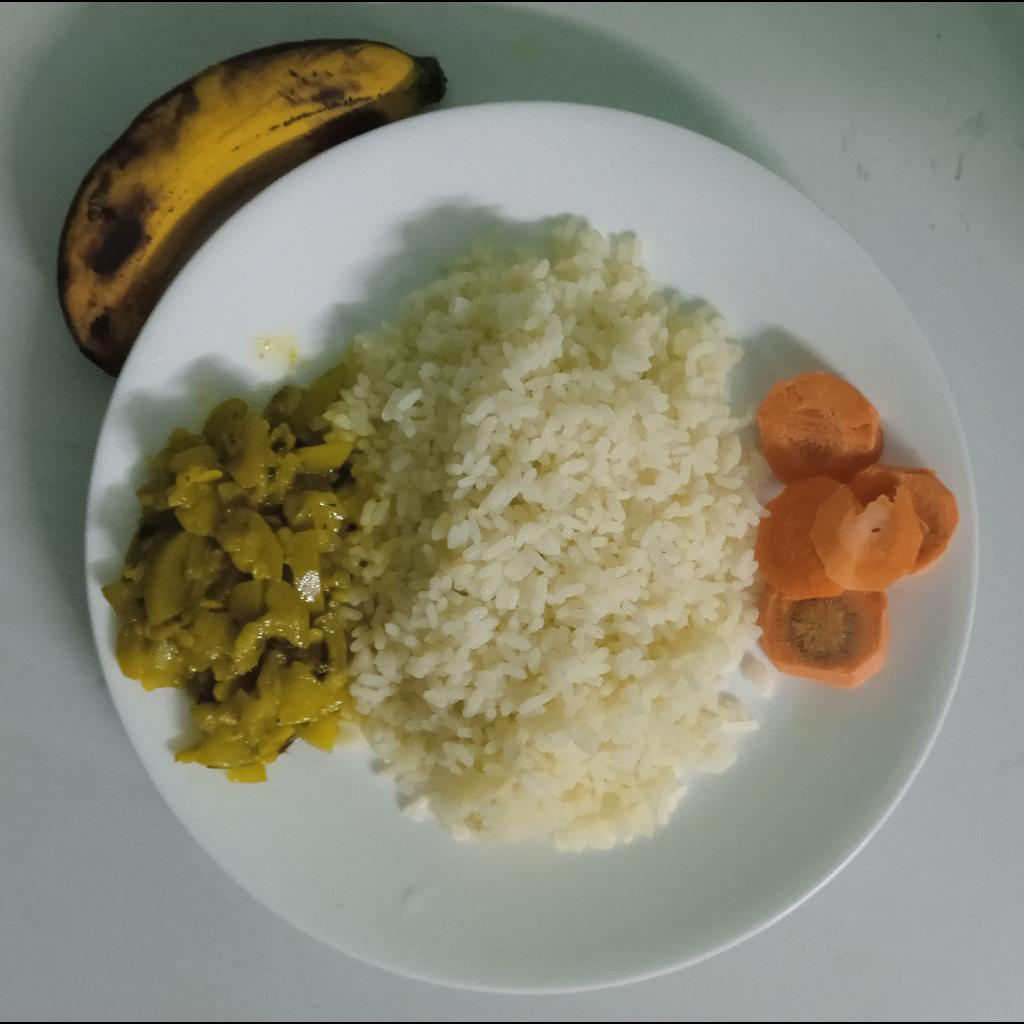banana: (56, 36, 444, 380)
carrot: (756, 371, 959, 691)
dundol: (102, 360, 362, 782)
rice: (327, 216, 766, 858)
